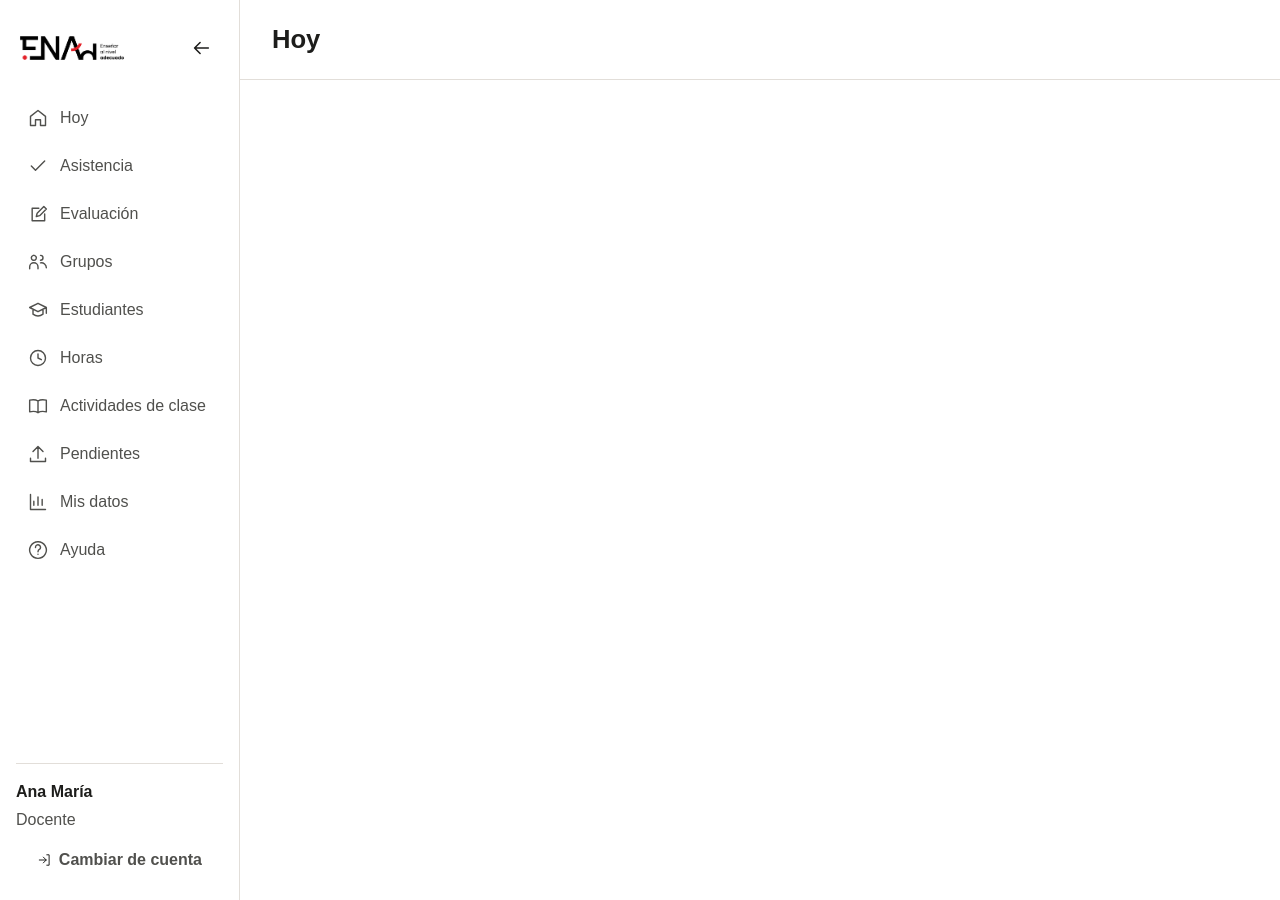
Test: Acceso al portal › muestra las secciones de docente
The image size is (1280, 900).
expect the text "Ana María" is shown: met, box [16,783,92,800]
Click the button named "Contraer barra lateral". click: x=201, y=48
box: [179,26,223,70]
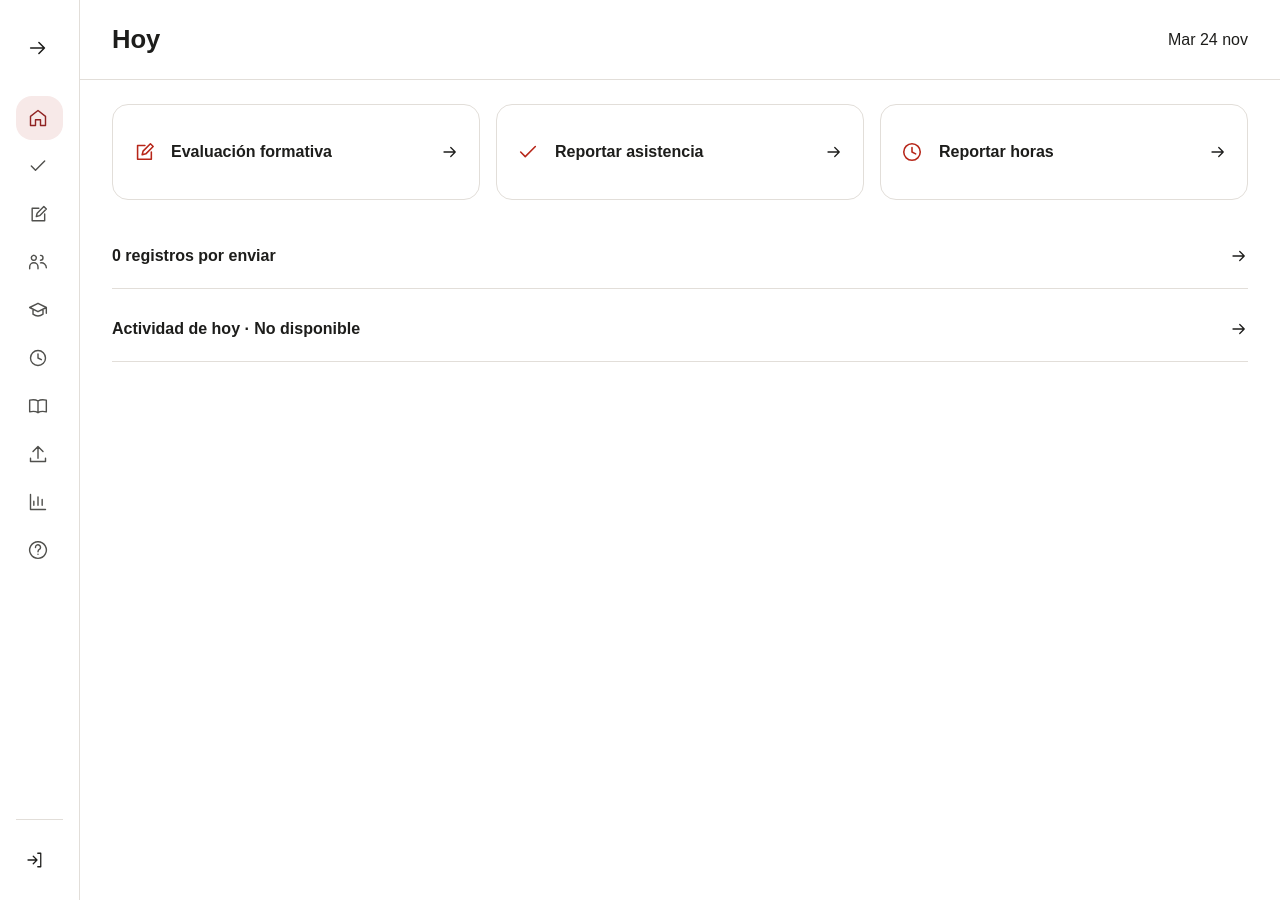
expect the button named "Ampliar barra lateral" is shown: met, box [16,26,60,70]
